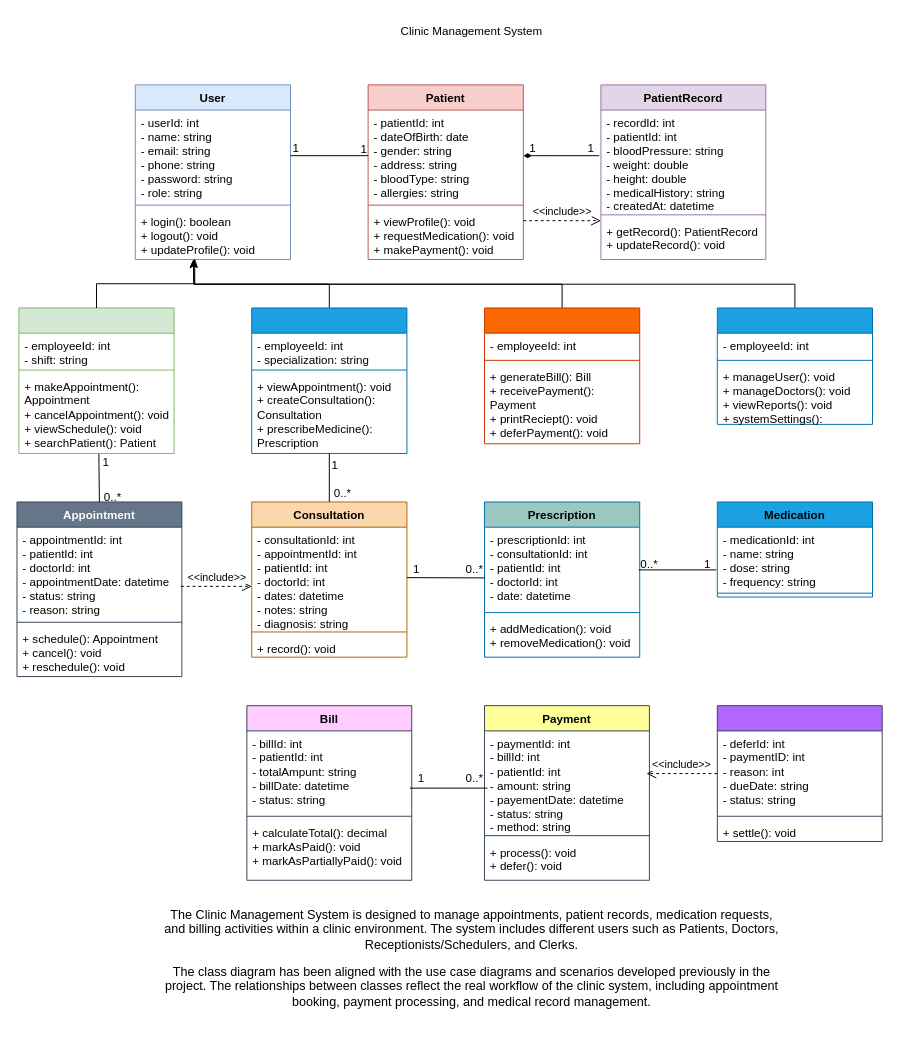
Some shapes in this 899 by 1037 pixel diagram are drawn without their labels. Each missing label, with the box of its shape:
Administrator: (716, 307, 873, 424)
Clerk: (484, 307, 640, 444)
DeferredPayment: (716, 705, 882, 841)
Doctor: (251, 307, 407, 453)
Scheduler: (18, 307, 174, 453)
